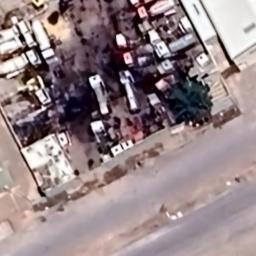truck: (30, 20, 64, 66), (86, 66, 113, 120), (0, 46, 40, 81), (150, 32, 203, 58), (113, 22, 167, 45), (1, 30, 40, 58), (118, 68, 140, 114), (132, 0, 178, 21), (118, 46, 156, 66), (0, 17, 30, 40), (156, 58, 182, 77)
